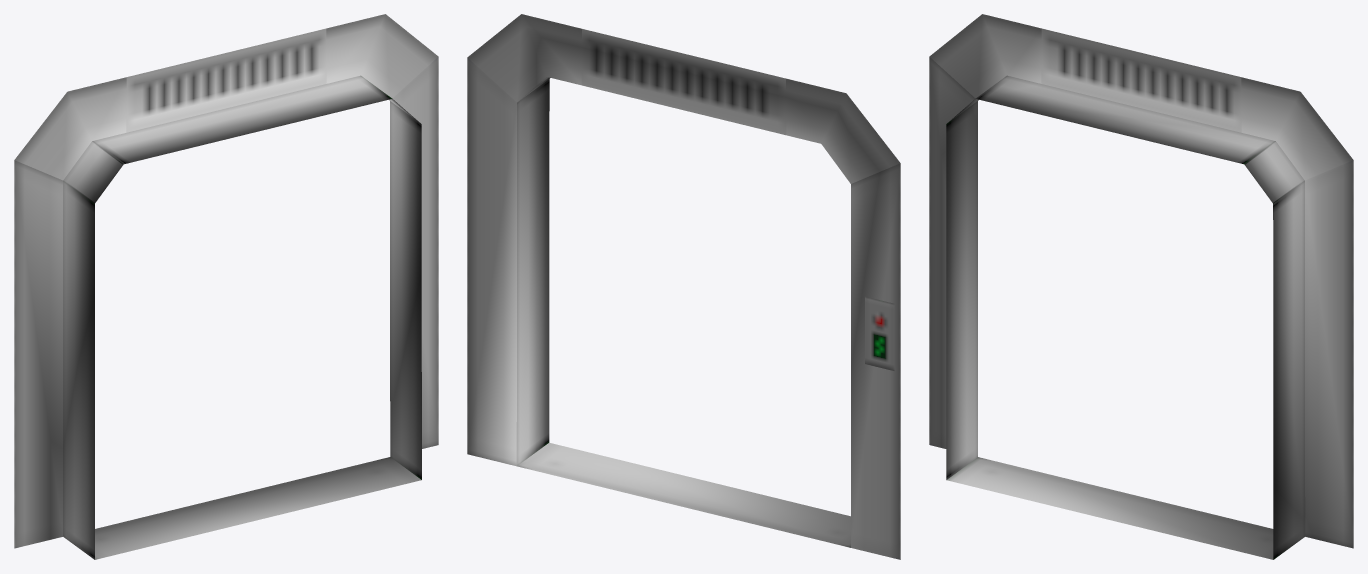
Rendered from door_frame_1.fbx.
3 renders of one model, left to right at view 1: azimuth 30°, elevation 25°; view 2: azimuth 150°, elevation 25°; view 3: azimuth 330°, elevation 25°, orthographic. The views are drawn at different scales.
Visible parts, largest first — view 1: Cube_028; view 2: Cube_028; view 3: Cube_028.
Boxes of the visible parts, <box> form: Cube_028: <box>14,14,438,559</box>; Cube_028: <box>467,14,900,559</box>; Cube_028: <box>929,14,1353,559</box>.
Bounding box in the file's own units: 8 × 8 × 1.09.
